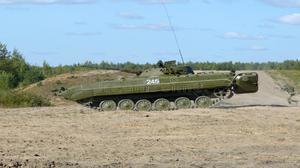bmp: (61, 60, 234, 111)
